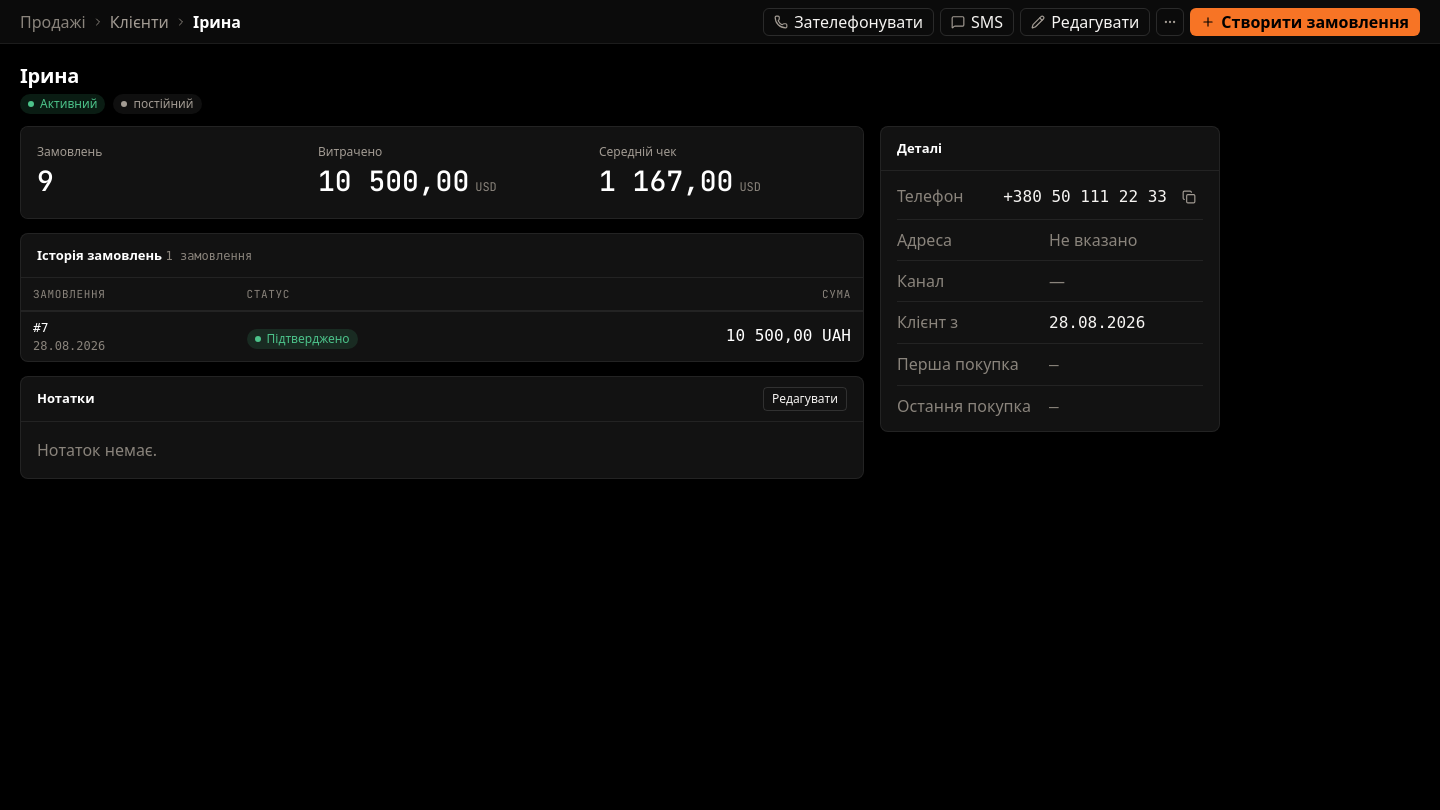
uses browser-native contact links and opens a new order over the customer card
Expected: the text "9" is shown, x1=37 y1=167 x2=54 y2=195
Expected: the text "Середній чек" reads "Середній чек 1 167,00 USD", x1=583 y1=127 x2=863 y2=218
Click the button named "Копіювати телефон" at (1189,197), box x1=1175 y1=183 x2=1203 y2=211
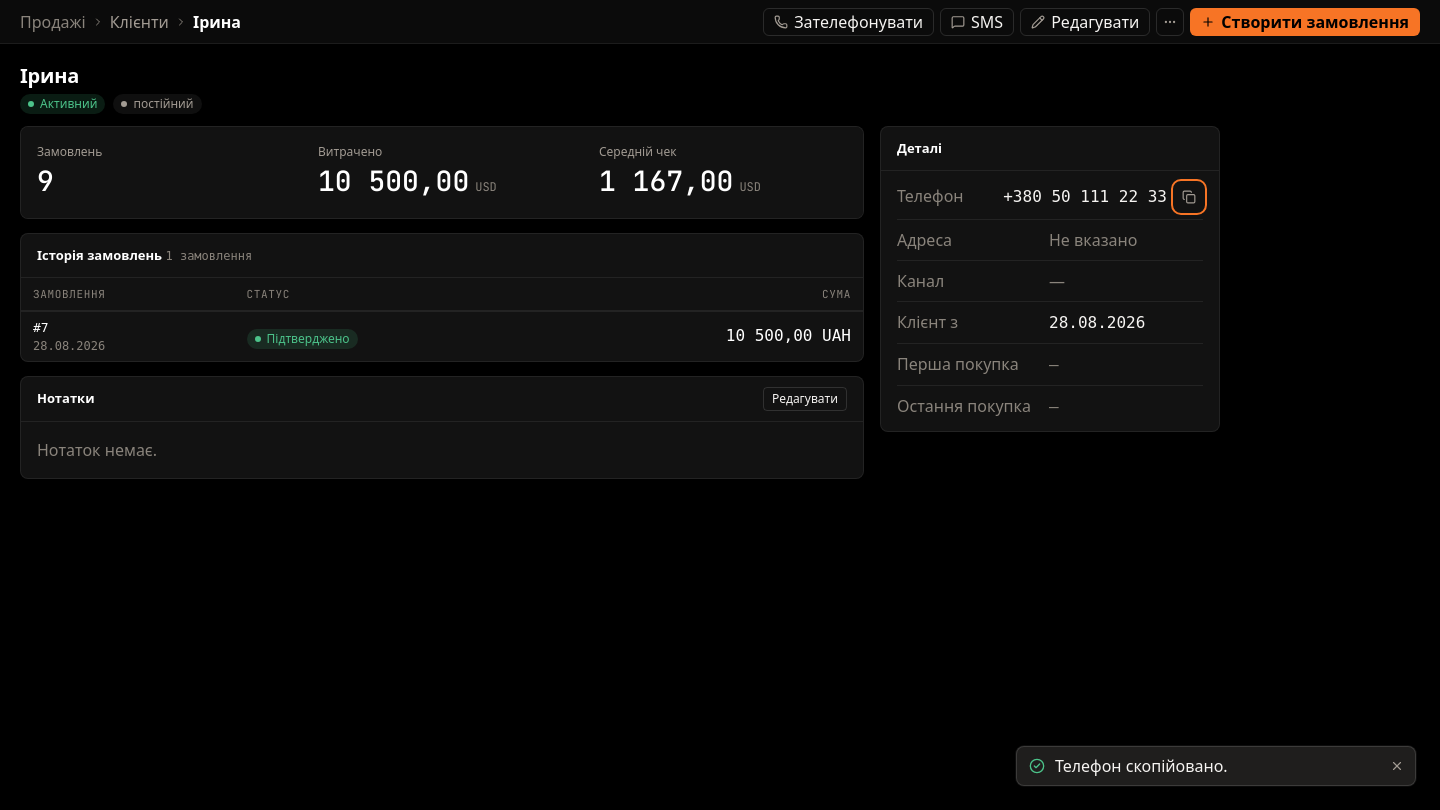
Click the button "Створити замовлення" at (1305,22), box x1=1190 y1=8 x2=1420 y2=36
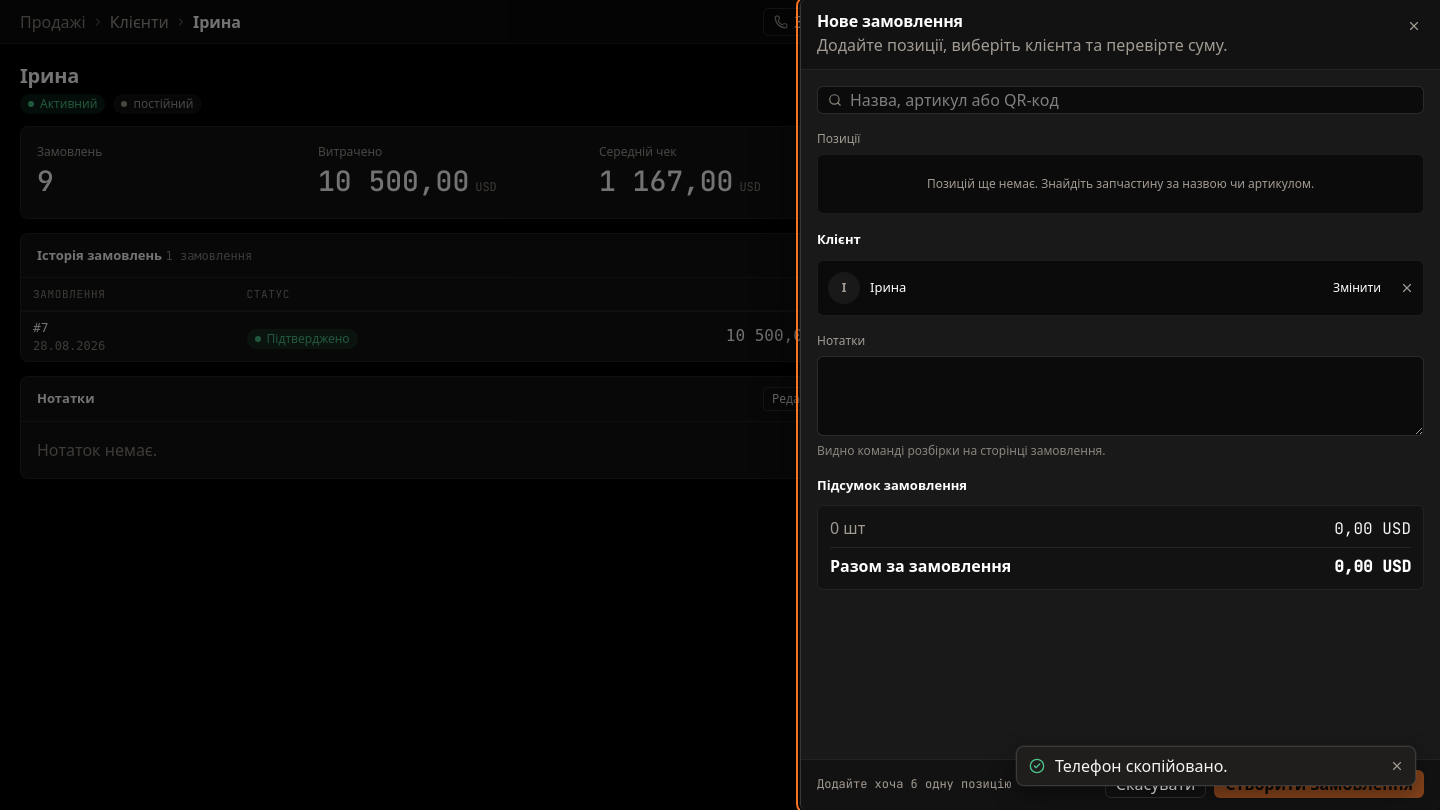
Expected: the heading "Ірина" is shown, x1=20 y1=62 x2=79 y2=89
Expected: the dialog "Нове замовлення" is shown, x1=800 y1=0 x2=1439 y2=809
